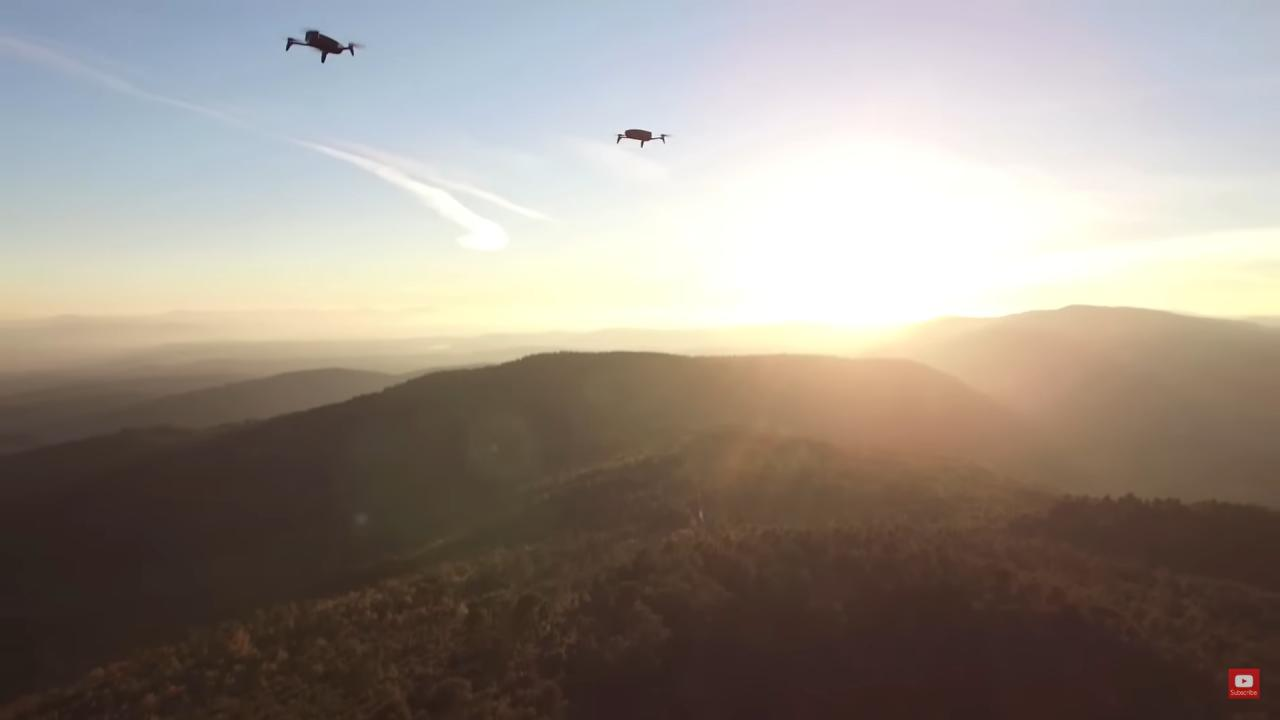Drone: (271, 19, 379, 74), (603, 115, 680, 158)
